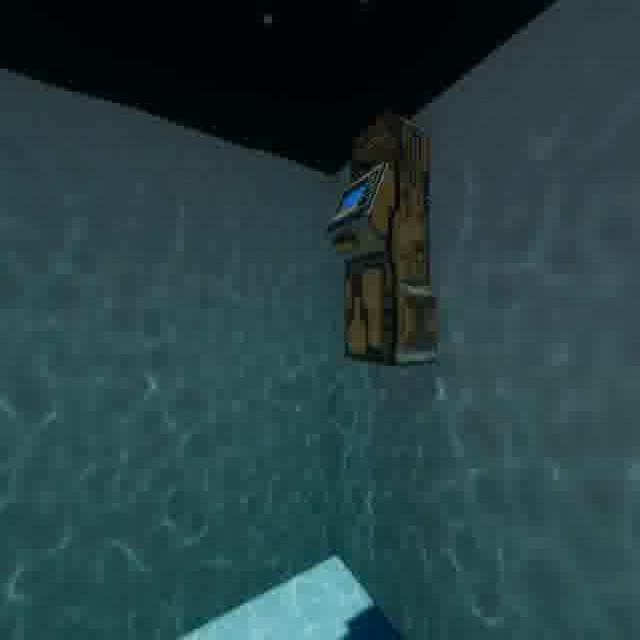Control Panel: (319, 103, 445, 376)
